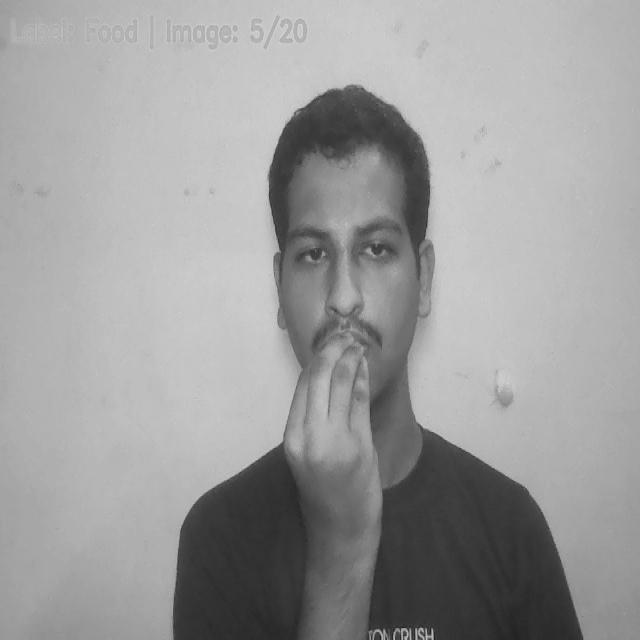Food: (286, 329, 383, 622)
